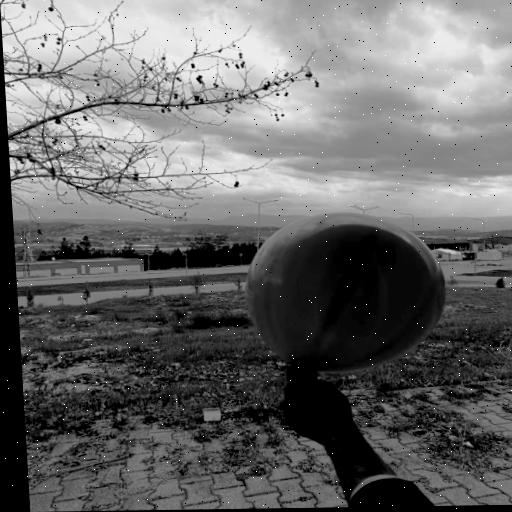balloon: (241, 210, 452, 374)
